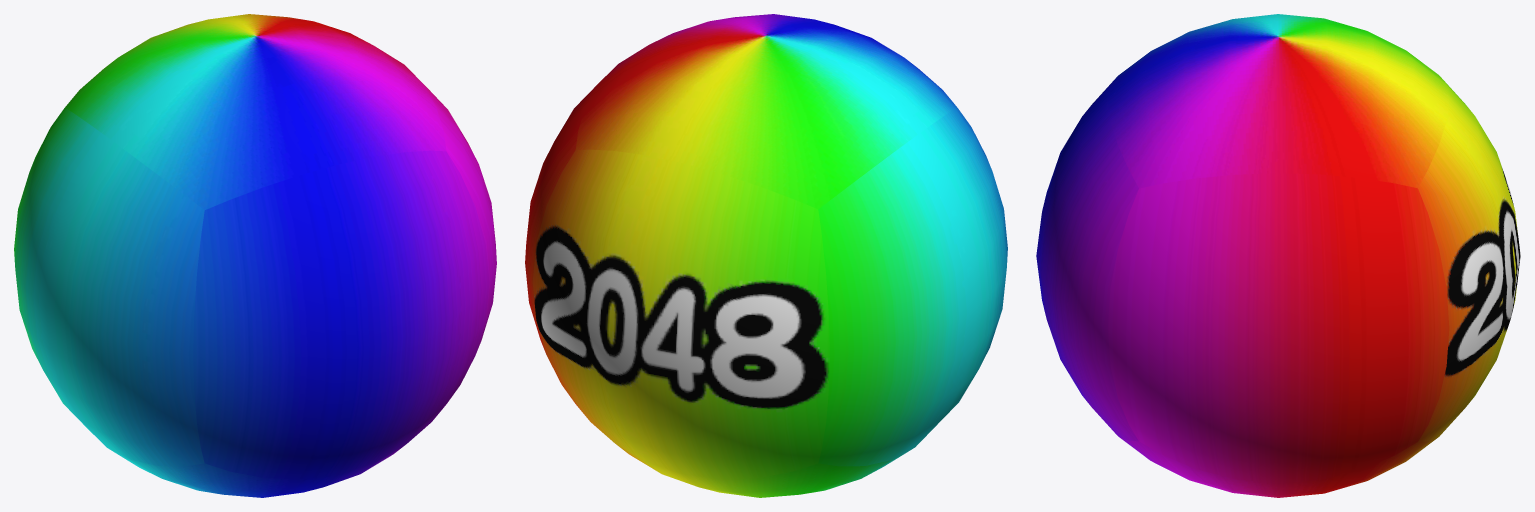
Rendered from Balls.fbx.
3 renders of one model, left to right at view 1: azimuth 30°, elevation 25°; view 2: azimuth 150°, elevation 25°; view 3: azimuth 270°, elevation 25°, orthographic.
Parts seen in each view (by area): view 1: Player010; view 2: Player010; view 3: Player010.
Boxes of the visible parts, x1=… form: Player010: x1=14, y1=14, x2=496, y2=497; Player010: x1=525, y1=14, x2=1007, y2=497; Player010: x1=1036, y1=14, x2=1520, y2=497.
Size of the model in its own units: 200 by 200 by 200.
1 material, 1 textured.
